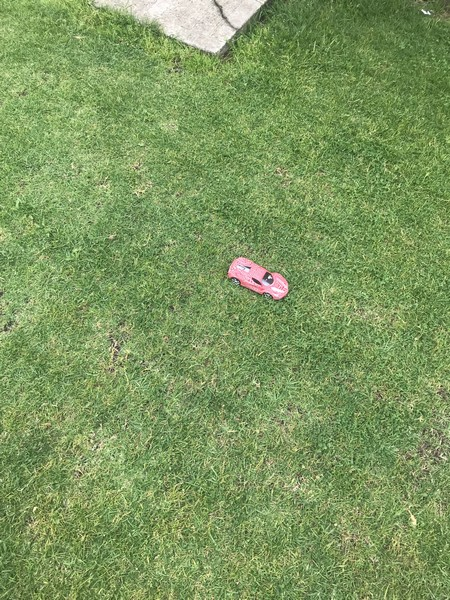RC: (226, 254, 290, 302)
